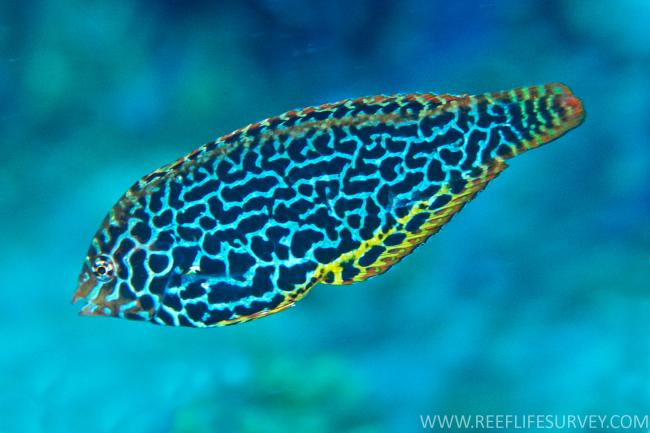fish: (70, 82, 587, 329)
